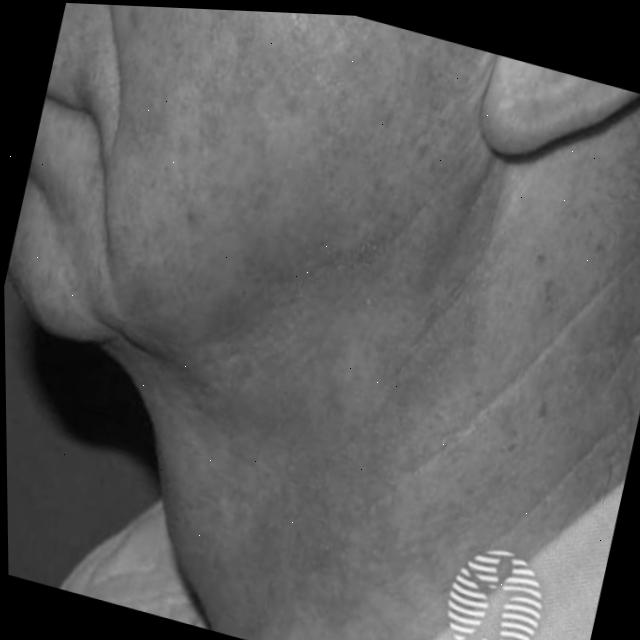Eczema: (136, 115, 530, 640)
